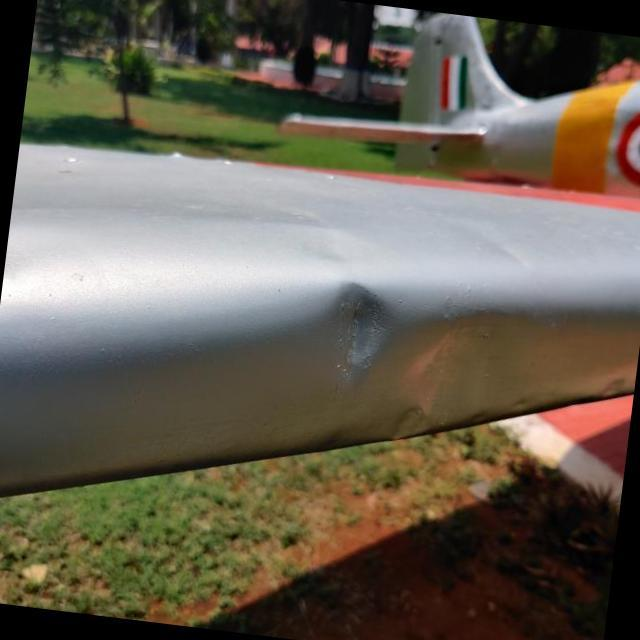Dent: (376, 286, 518, 460), (302, 268, 418, 393)
